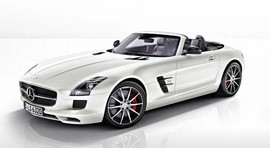car: (18, 31, 245, 128)
